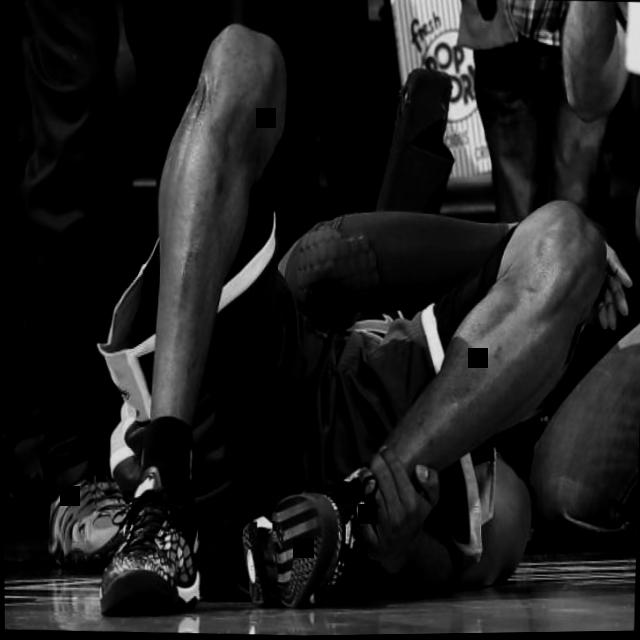Fall-Detected: (43, 0, 640, 639)
